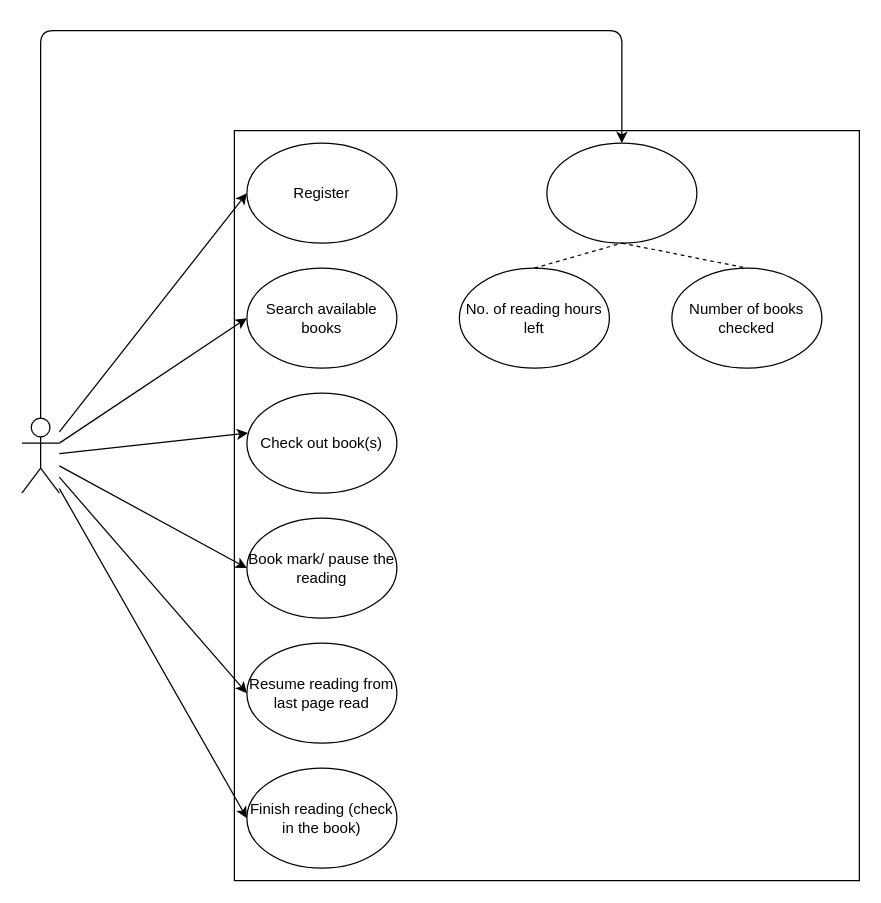
Some shapes in this 881 by 903 pixel diagram are drawn without their labels. The centre of each missing label's shape, as x and y in pixels:
"Actor" belongs at (40,455).
"Subscription details" belongs at (621,192).
